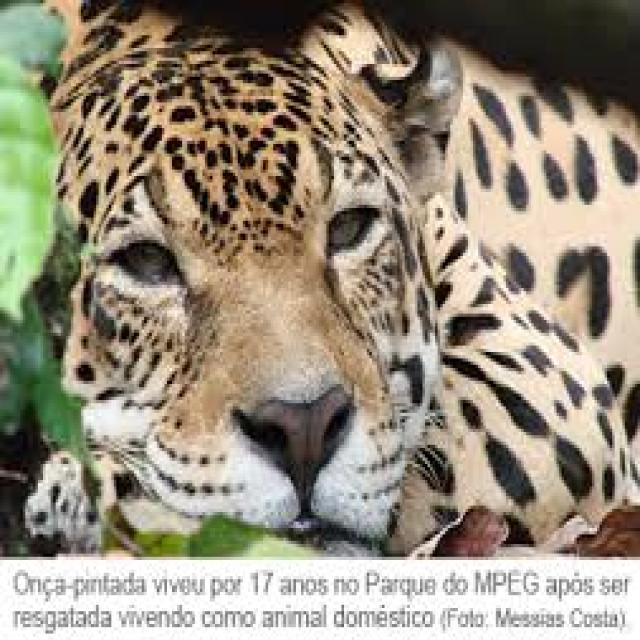Jaguar: (43, 0, 640, 550)
